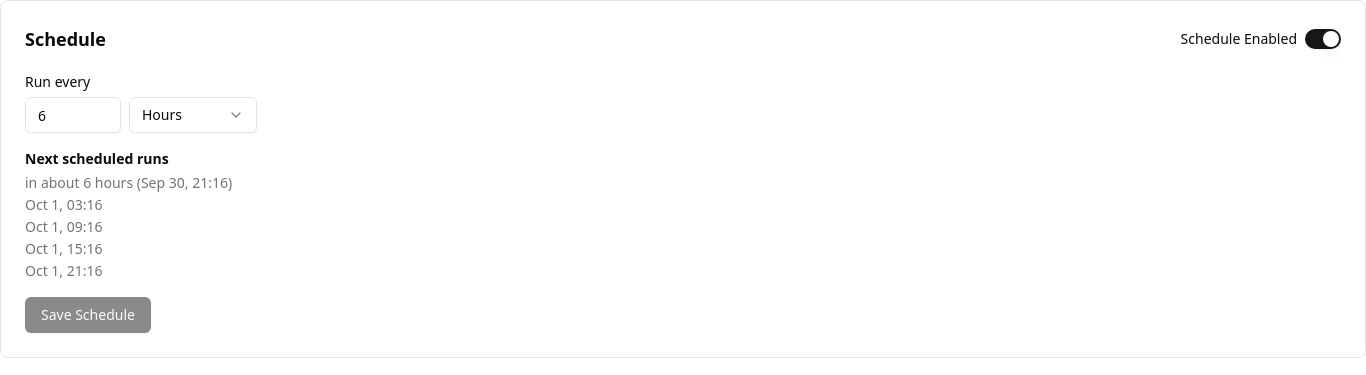
Test: ScheduleBuilder — UI-02: Frontend validation › clears validation error when a valid value is entered
// First enter invalid value
Replace the text in the number field with placeholder "Value" with "0" at (73, 115), box [25,97,121,133]
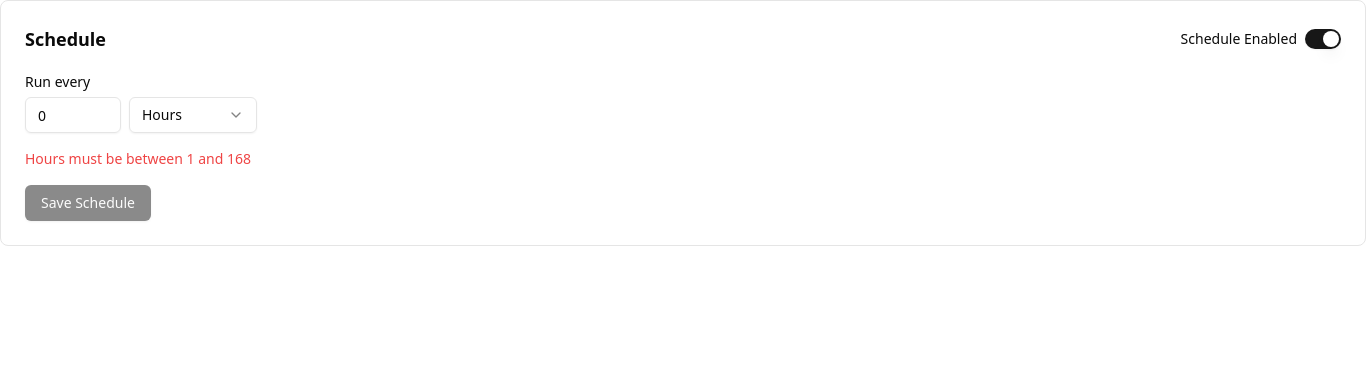
expect the text "Hours must be between 1 and 168" is shown: met, box [25,149,251,168]
// Then enter valid value
Replace the text in the number field with placeholder "Value" with "12" at (73, 115), box [25,97,121,133]
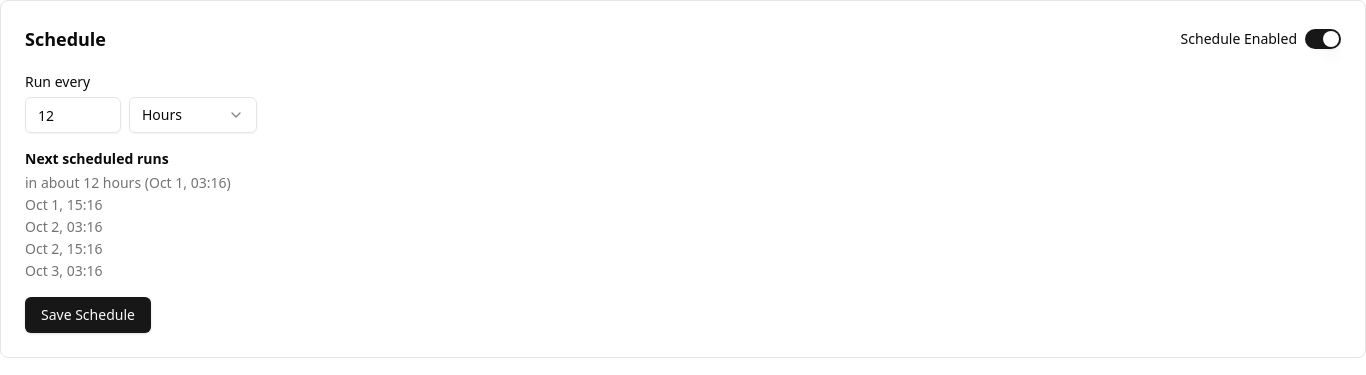
expect the text "Hours must be between" is gone: met
